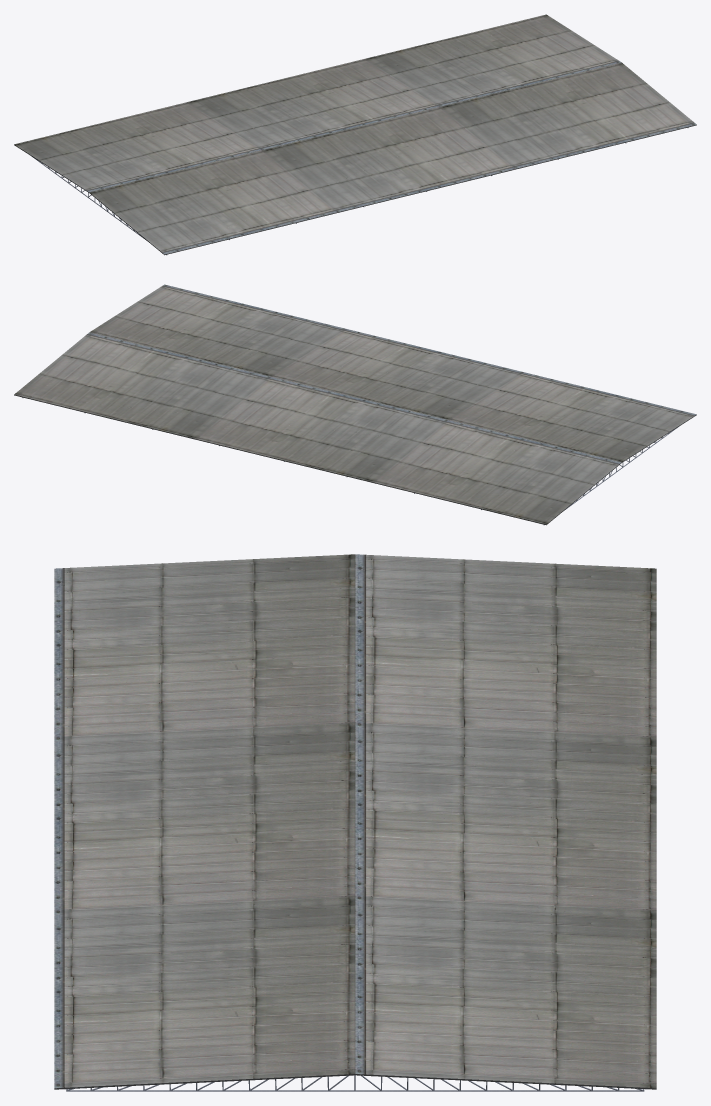
The model's file is WareBig_Roof.FBX.
The picture shows the model from 3 angles, top to bottom: view 1: azimuth 30°, elevation 25°; view 2: azimuth 150°, elevation 25°; view 3: azimuth 270°, elevation 25°; orthographic projection. The views are drawn at different scales.
Parts seen in each view (by area): view 1: WareBig_Roof; view 2: WareBig_Roof; view 3: WareBig_Roof, WareBig_Detail.
Part boxes in pixels (left/top/right/bottom): WareBig_Roof: left=14, top=14, right=696, bottom=255; WareBig_Roof: left=14, top=284, right=696, bottom=525; WareBig_Roof: left=54, top=554, right=656, bottom=1089; WareBig_Detail: left=66, top=1075, right=644, bottom=1091.
Size of the model in its own units: 3031 by 105 by 1484.
